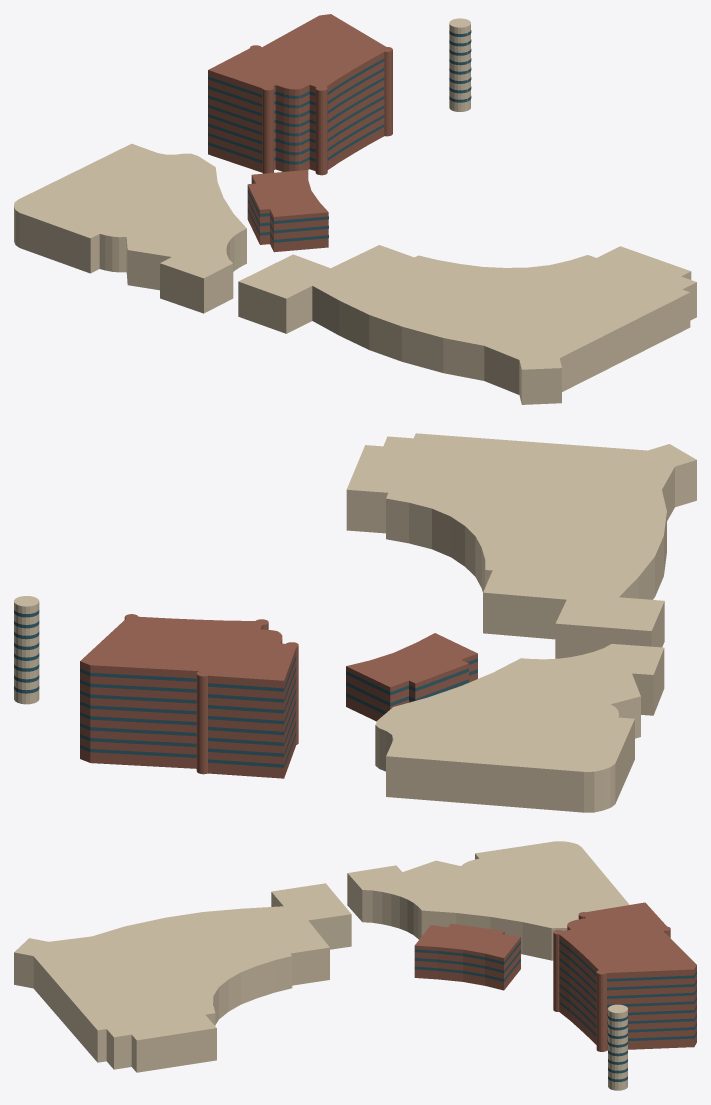
File: city_8_-4.glb
3 views of the same model, one above another, from view 1: azimuth 30°, elevation 25°; view 2: azimuth 150°, elevation 25°; view 3: azimuth 270°, elevation 25° (orthographic). The views are drawn at different scales.
Visible parts, largest first — view 1: city_8_-4; view 2: city_8_-4; view 3: city_8_-4.
Boxes of the visible parts, x1,y1,x2,y2 form: city_8_-4: [14, 14, 696, 404]; city_8_-4: [14, 433, 696, 812]; city_8_-4: [14, 841, 696, 1090].
Size of the model in its own units: 216 by 36 by 287.
